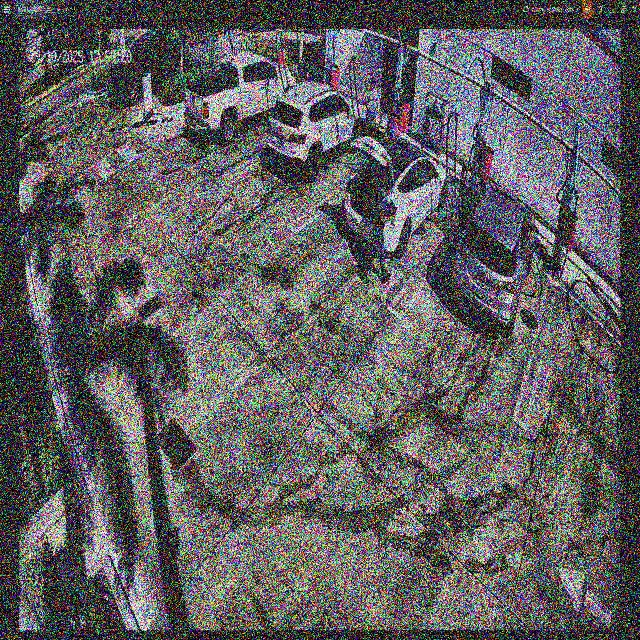Car: (458, 166, 538, 333), (348, 136, 448, 253), (266, 81, 367, 178)
